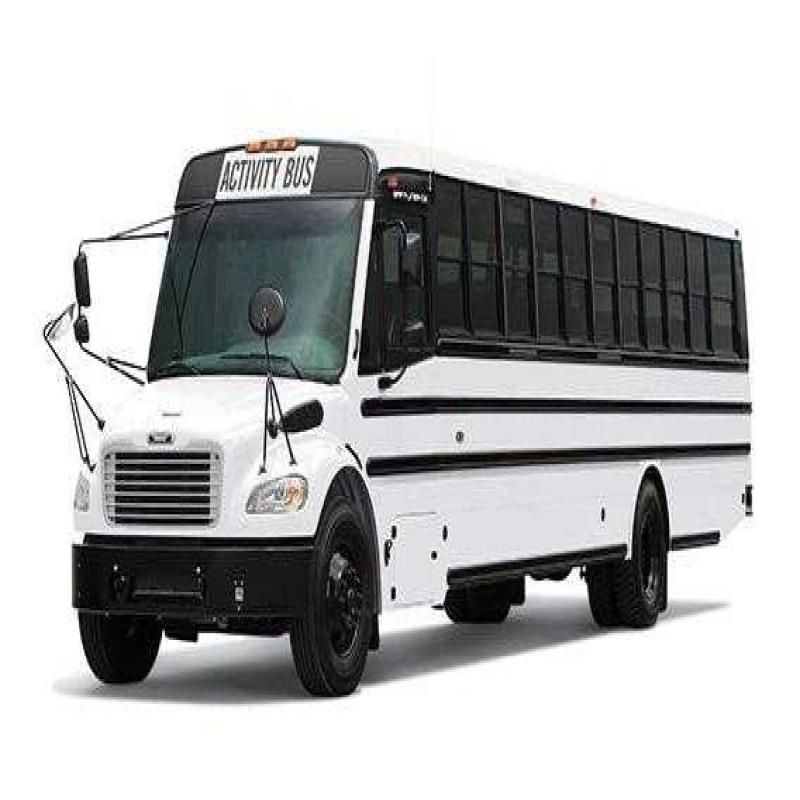bus: (53, 113, 767, 665)
